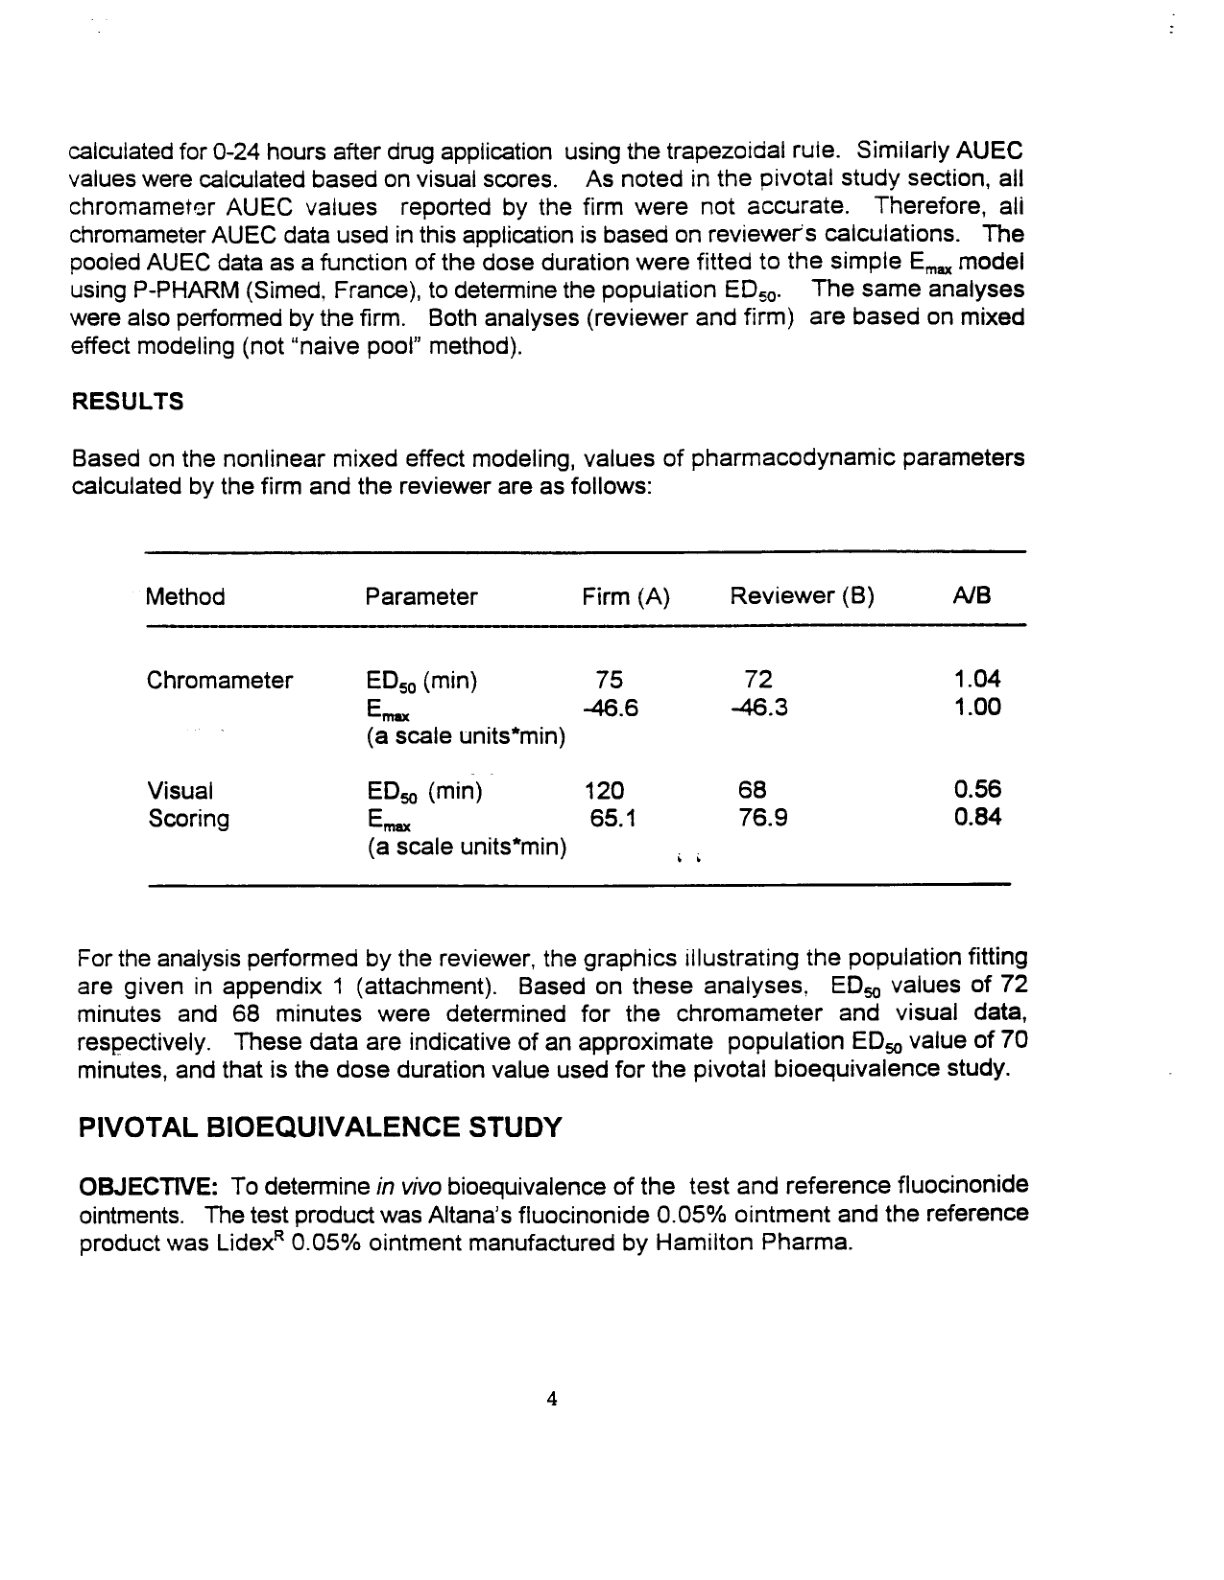partial_lined: (142, 550, 1026, 889)
